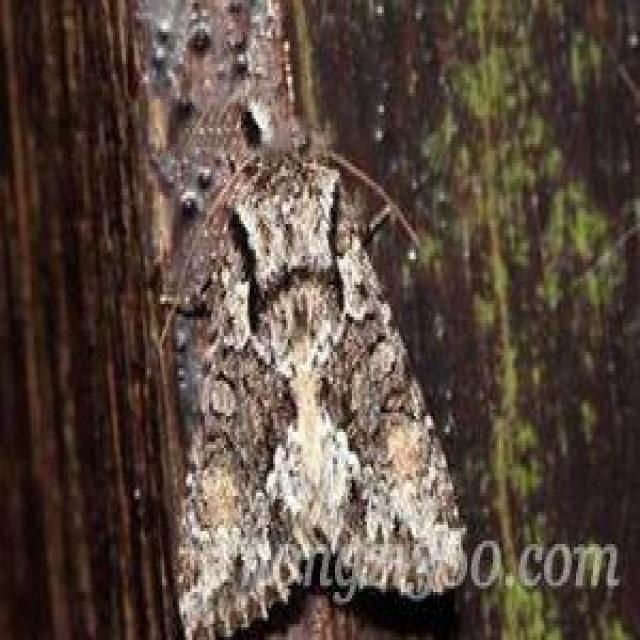BeetArmyWorm-Adult-: (122, 89, 484, 636)
